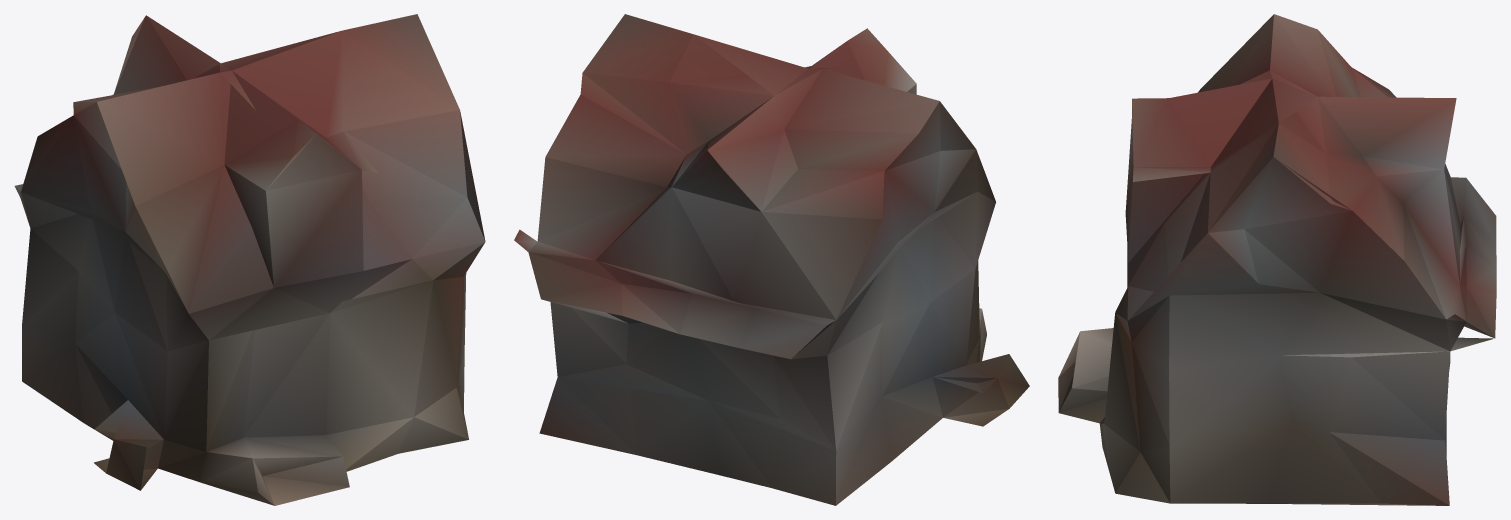
Rendered from fisher-house.glb.
3 views of the same model, side by side, from view 1: azimuth 30°, elevation 25°; view 2: azimuth 150°, elevation 25°; view 3: azimuth 270°, elevation 25° (orthographic). The views are drawn at different scales.
Visible parts, largest first — view 1: fisher-house-far; view 2: fisher-house-far; view 3: fisher-house-far.
Boxes of the visible parts, x1,y1,x2,y2 form: fisher-house-far: (14, 14, 485, 505); fisher-house-far: (514, 14, 1029, 505); fisher-house-far: (1058, 14, 1496, 505).
Bounding box in the file's own units: 7.25 × 6.9 × 7.71.
